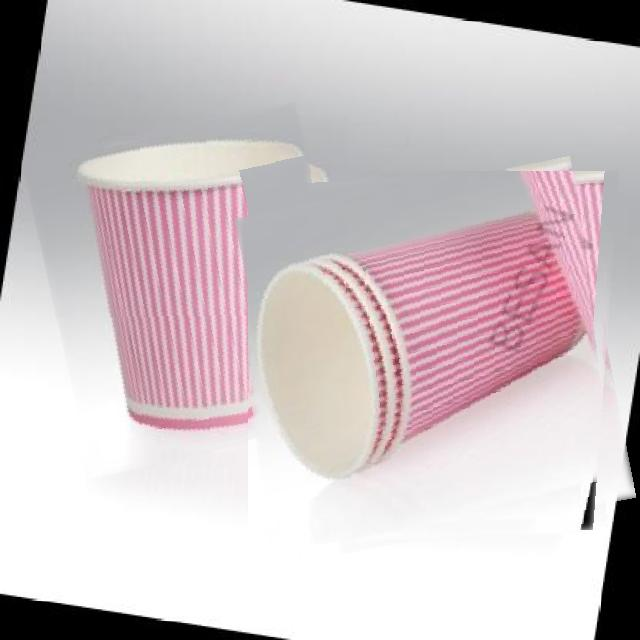non-biodegradable: (248, 171, 621, 549), (38, 115, 348, 467)
